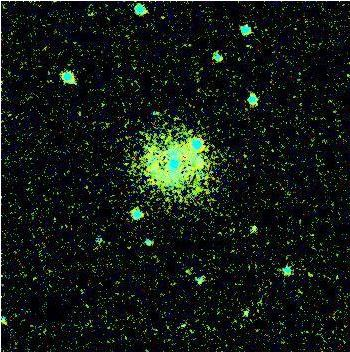star: (170, 255, 200, 285)
